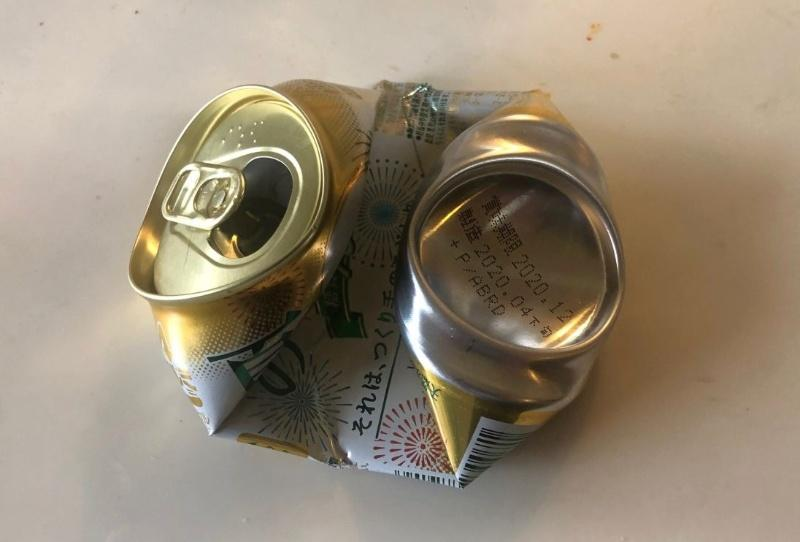metal: (128, 69, 633, 494)
